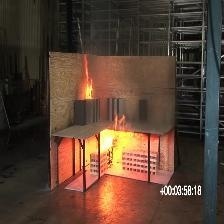fire: (93, 122, 137, 169), (79, 62, 102, 112)
